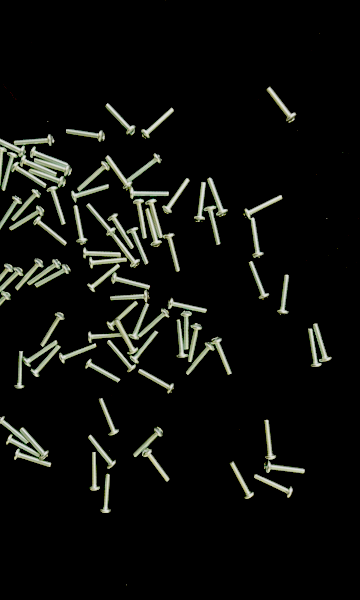longscrew: (264, 86, 300, 125), (108, 231, 141, 269), (245, 258, 272, 303), (131, 425, 165, 460), (140, 107, 175, 141), (161, 176, 190, 217), (104, 101, 137, 137), (125, 153, 163, 184), (252, 473, 295, 500), (76, 160, 111, 193), (10, 188, 43, 223), (13, 257, 45, 293), (86, 263, 122, 295), (32, 216, 68, 248), (87, 434, 118, 471), (243, 194, 285, 221), (106, 299, 140, 332), (228, 460, 256, 500), (106, 339, 138, 374), (19, 426, 51, 461), (30, 344, 62, 379), (22, 339, 59, 369), (104, 154, 133, 192), (83, 357, 122, 385), (85, 202, 116, 237), (137, 369, 177, 396), (142, 448, 172, 484), (12, 161, 49, 190), (38, 311, 66, 349), (107, 212, 135, 250), (186, 342, 216, 377), (130, 330, 160, 365), (26, 258, 62, 287), (206, 175, 230, 218), (8, 206, 46, 233), (138, 308, 171, 339), (126, 225, 150, 267), (96, 397, 121, 437), (4, 434, 42, 460), (34, 264, 72, 290), (210, 336, 234, 377), (0, 414, 31, 445), (45, 186, 68, 227), (114, 318, 139, 355), (29, 146, 71, 168), (127, 302, 150, 342), (311, 323, 333, 364), (12, 448, 53, 470), (19, 154, 58, 177), (0, 195, 23, 234), (144, 198, 165, 240), (32, 157, 74, 178), (59, 343, 99, 365), (203, 205, 224, 246), (0, 151, 20, 193), (27, 168, 67, 189), (0, 266, 25, 299), (144, 207, 164, 248), (110, 272, 153, 291), (71, 204, 90, 247), (248, 216, 266, 261), (71, 184, 111, 204), (162, 232, 181, 274), (167, 296, 208, 315), (306, 327, 324, 369), (262, 419, 280, 461), (65, 127, 107, 145), (187, 322, 204, 365), (262, 460, 306, 476), (0, 132, 27, 158), (277, 272, 292, 318), (132, 198, 148, 240), (98, 473, 113, 516), (128, 187, 171, 202), (13, 133, 56, 148), (175, 318, 190, 360), (80, 246, 122, 261), (193, 180, 207, 224), (87, 451, 101, 493), (87, 256, 129, 270), (86, 330, 126, 344), (109, 291, 152, 304), (13, 349, 26, 391), (180, 310, 193, 351), (0, 263, 14, 298), (0, 291, 12, 325), (0, 144, 7, 189)
